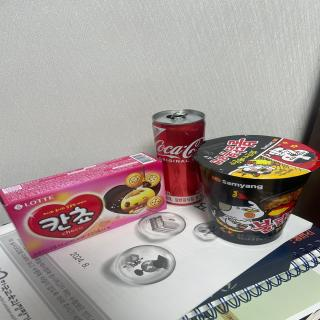cocacola: (148, 105, 216, 210)
